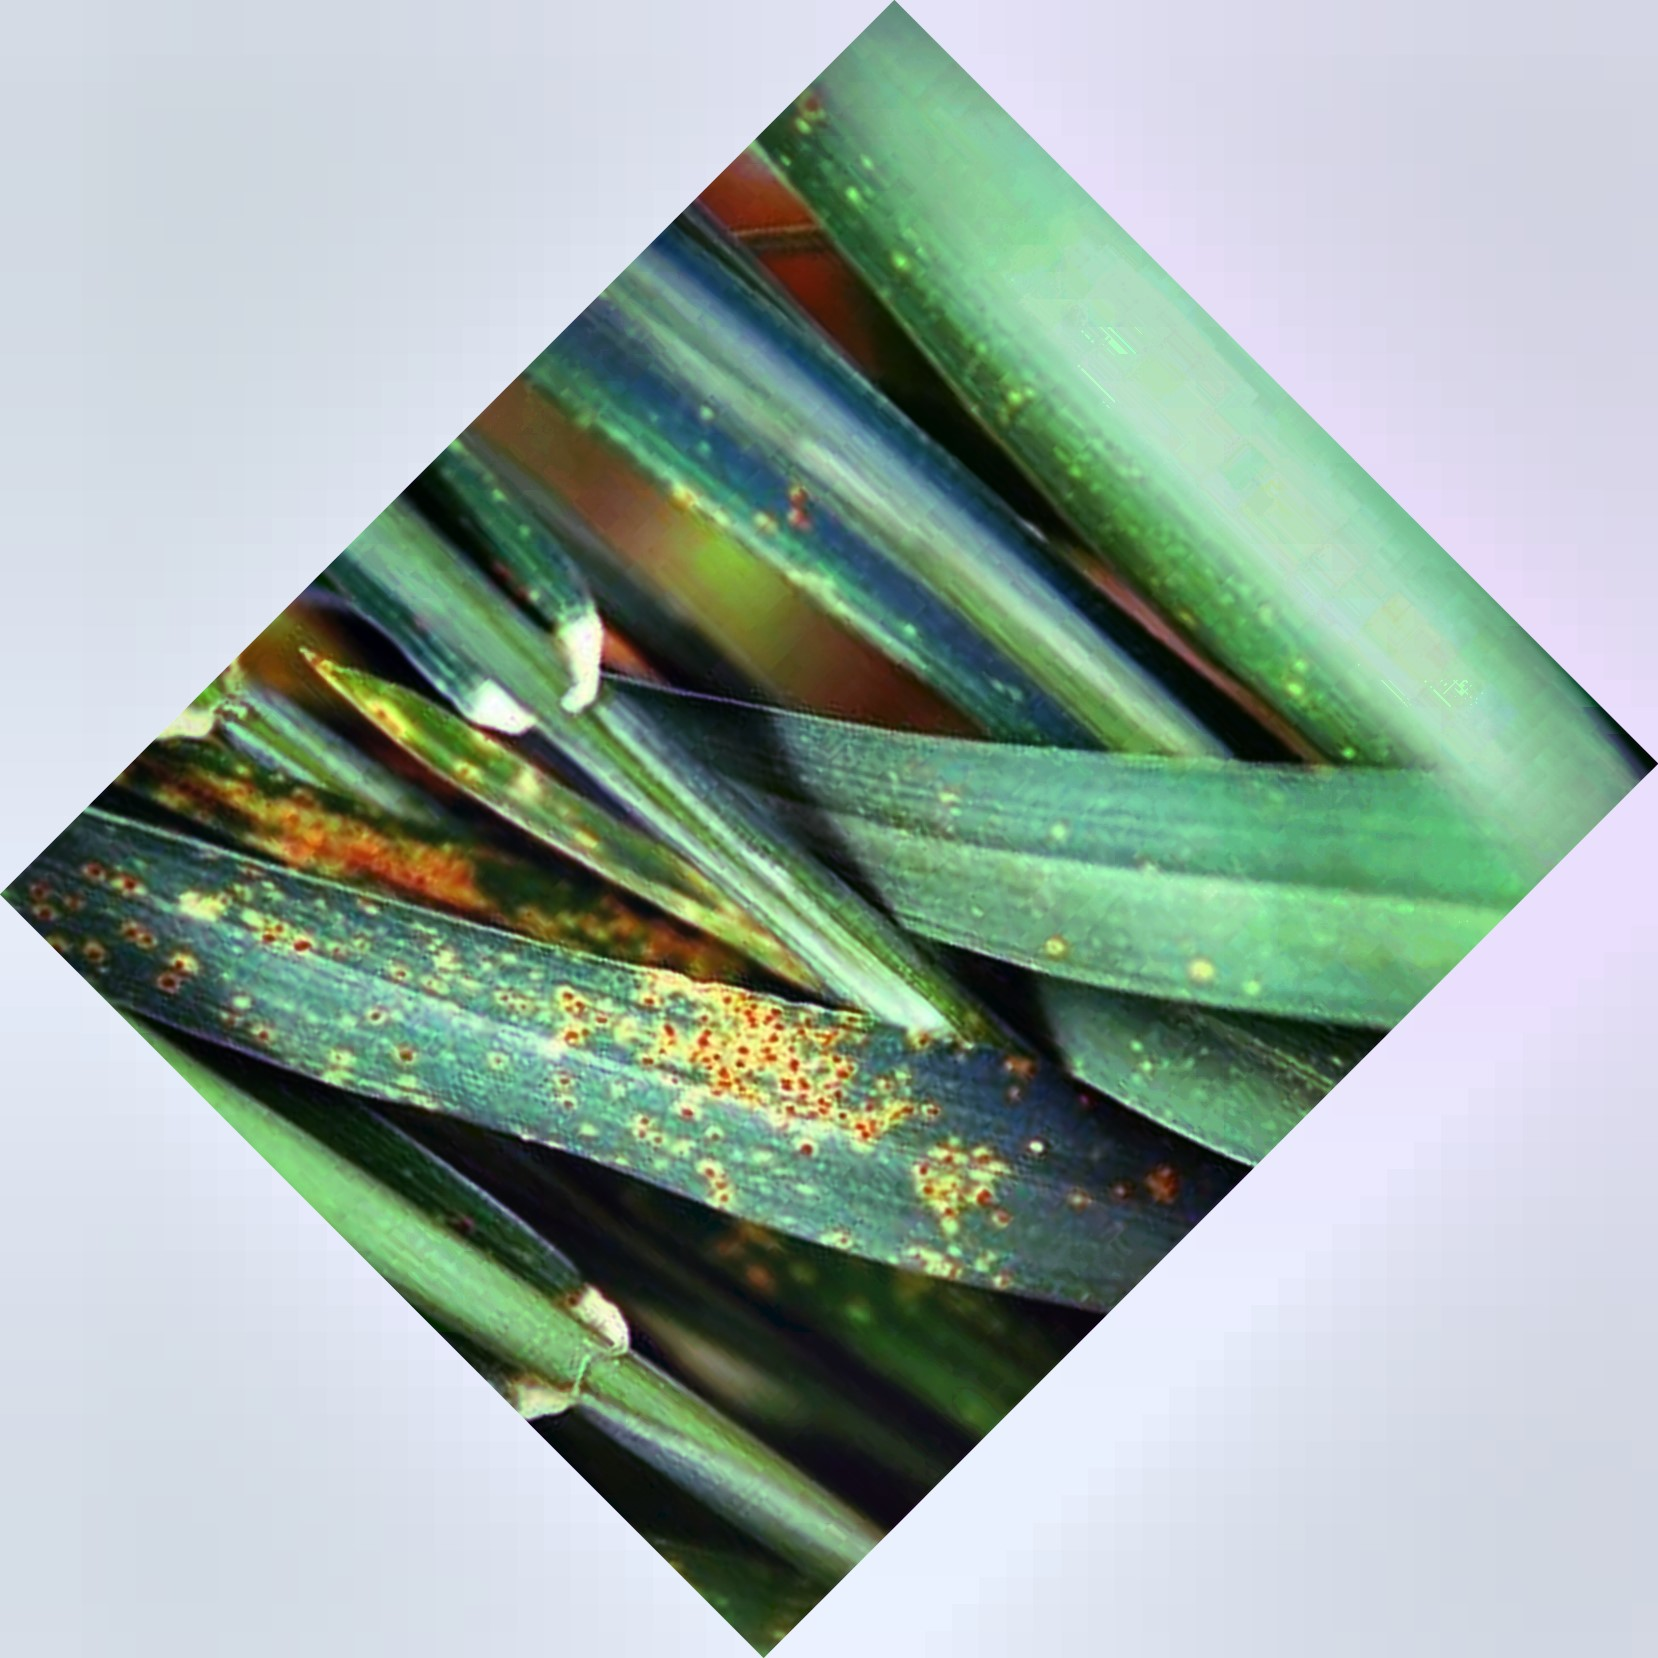Leaf Rust: (203, 850, 1023, 1288)
